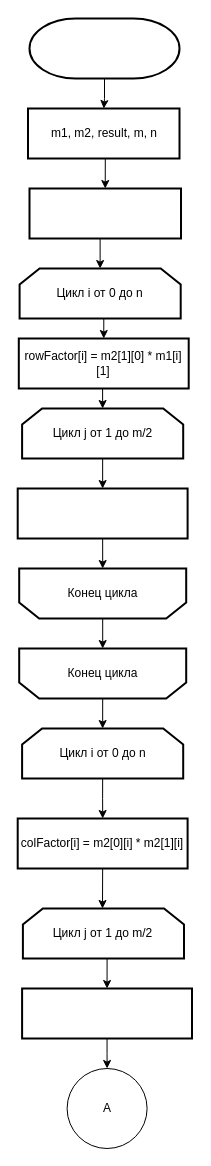
The diagram is 211 pixels wide and 1166 high, and some of its shapes have lost their labels. The box of each missing label's shape, as (x1, y1, x2, y2) in pixels:
colFactor[i] = colFactor[i] + m2[2j][i]*m2[2j+1][i]: (21, 987, 192, 1039)
roeFactor, colFactor: (28, 187, 182, 239)
rowFactor[i] = rowFactor[i] + m1[i][2j]*m1[i][2j+1]: (16, 487, 188, 539)
Начало: (28, 17, 180, 79)
